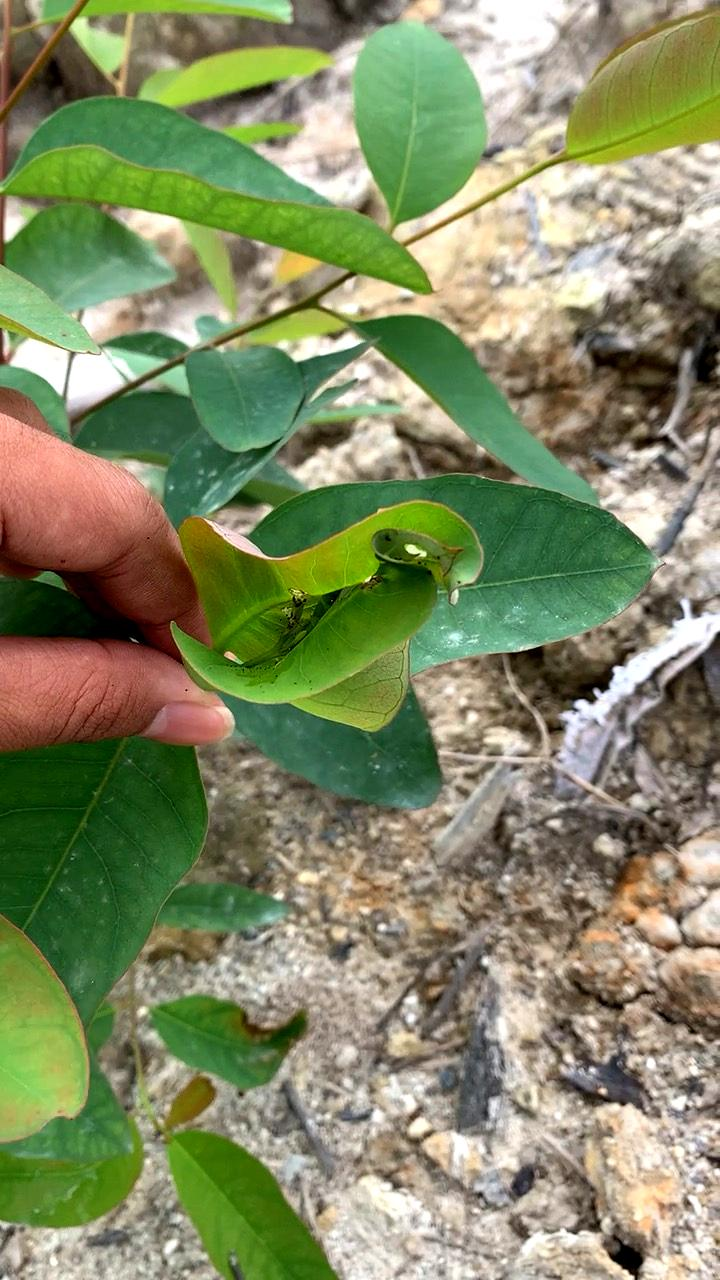Leaf Roller - Leaf: (151, 468, 510, 750)
